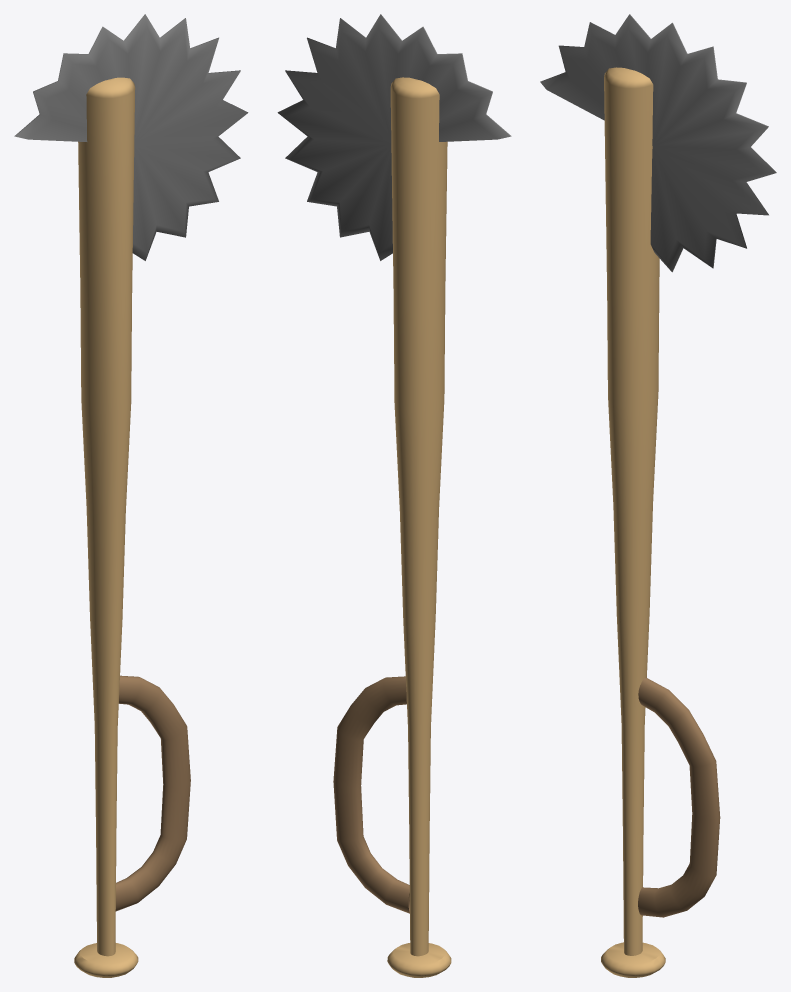
The model's file is AvaBaseBallBat.fbx.
3 views of the same model, side by side, from view 1: azimuth 30°, elevation 25°; view 2: azimuth 150°, elevation 25°; view 3: azimuth 330°, elevation 25° (orthographic).
Parts seen in each view (by area): view 1: BaseballBatSaw1, pCylinder2, pTorus1; view 2: BaseballBatSaw1, pCylinder2, pTorus1; view 3: BaseballBatSaw1, pCylinder2, pTorus1.
Part boxes in pixels (<box>): BaseballBatSaw1: <box>74,77,138,977</box>; pCylinder2: <box>14,14,248,260</box>; pTorus1: <box>115,675,190,911</box>; BaseballBatSaw1: <box>387,77,451,977</box>; pCylinder2: <box>277,14,511,260</box>; pTorus1: <box>333,676,409,913</box>; BaseballBatSaw1: <box>601,67,665,977</box>; pCylinder2: <box>540,14,776,272</box>; pTorus1: <box>638,677,720,917</box>.
Bounding box in the file's own units: 0.9716 × 3.75 × 0.231.
